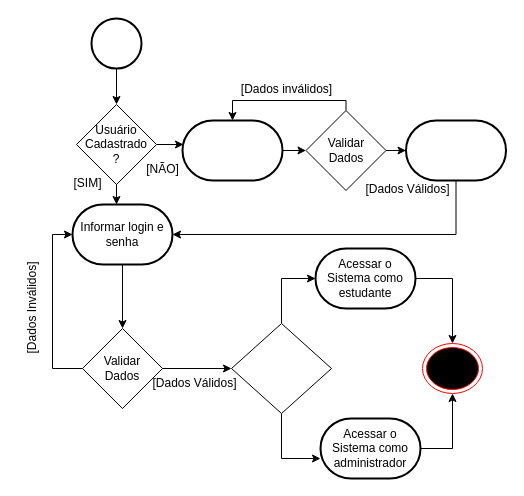
This 524x496 diagram has some shape labels left out. Here are the shapes that lost their labels. From the top down, the centre of each, then its label:
point 232,150: Informar dados cadastrais
point 455,150: Cadastrar Usuário
point 281,368: É administrador ?
